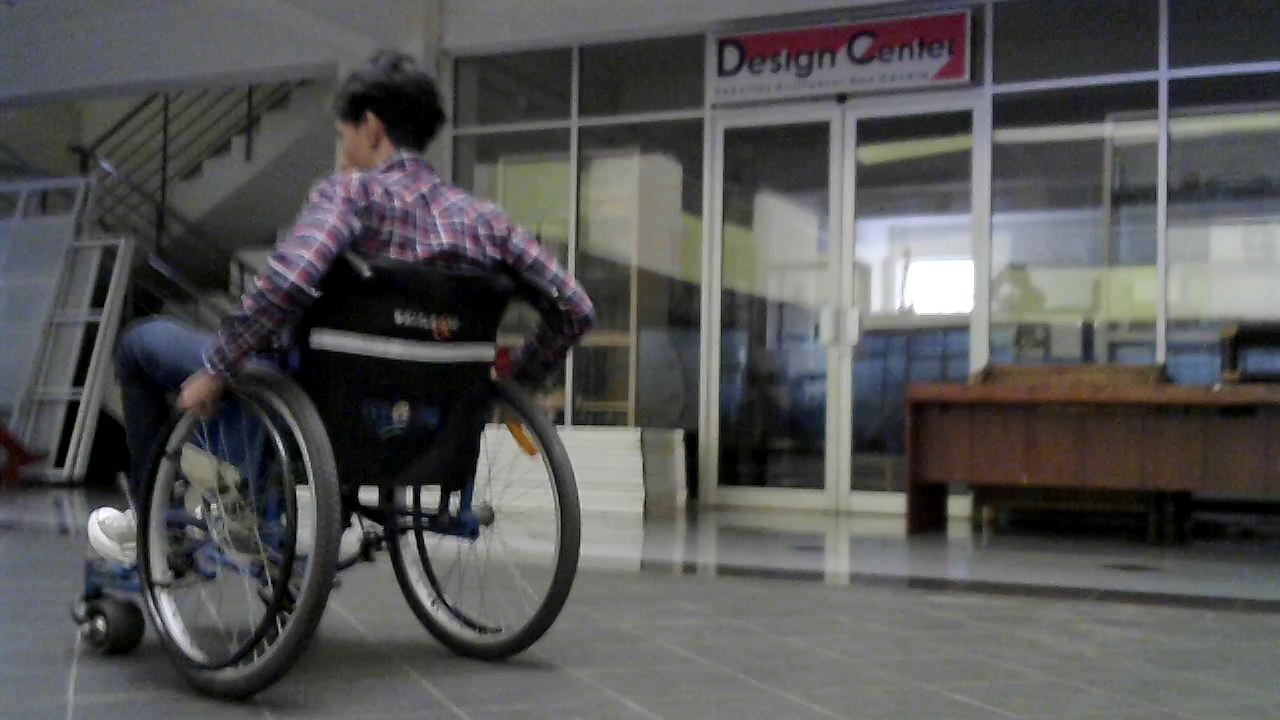person: (115, 50, 598, 527)
wheelchair: (86, 242, 603, 700)
